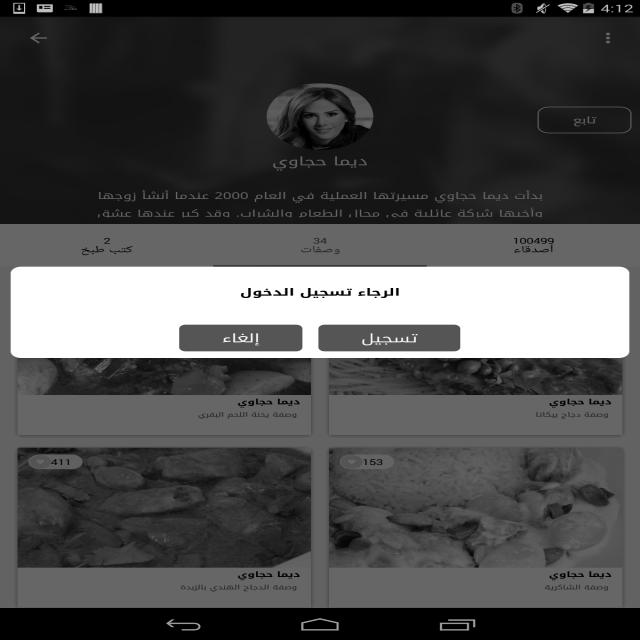Button: (312, 321, 463, 354), (174, 322, 306, 354), (534, 104, 635, 136)
ImageButton: (22, 28, 60, 45), (597, 29, 622, 48)
ImageView: (16, 446, 309, 567), (329, 449, 618, 567), (20, 362, 309, 397), (330, 361, 620, 393), (258, 86, 378, 150)
TextView: (91, 188, 546, 219), (237, 282, 409, 302), (201, 400, 307, 421), (532, 396, 616, 422), (267, 154, 373, 172), (232, 570, 306, 595), (546, 570, 618, 594), (77, 233, 136, 256), (508, 235, 557, 256), (298, 235, 342, 256)
